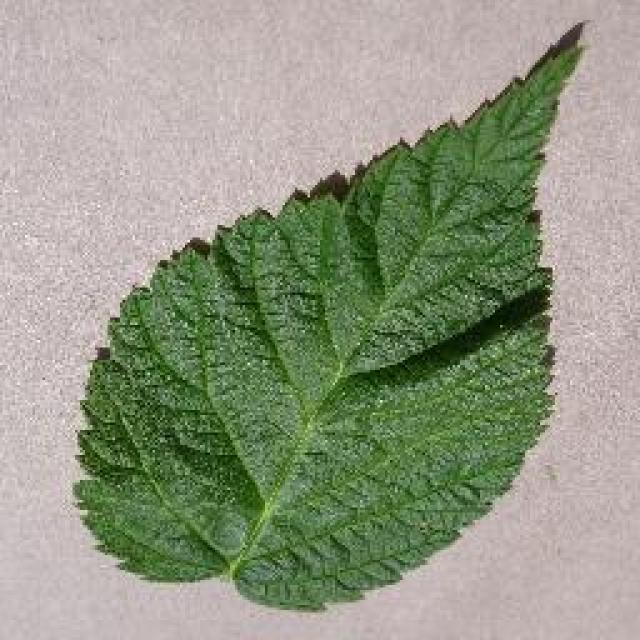Ras_healthy: (106, 183, 529, 566)
